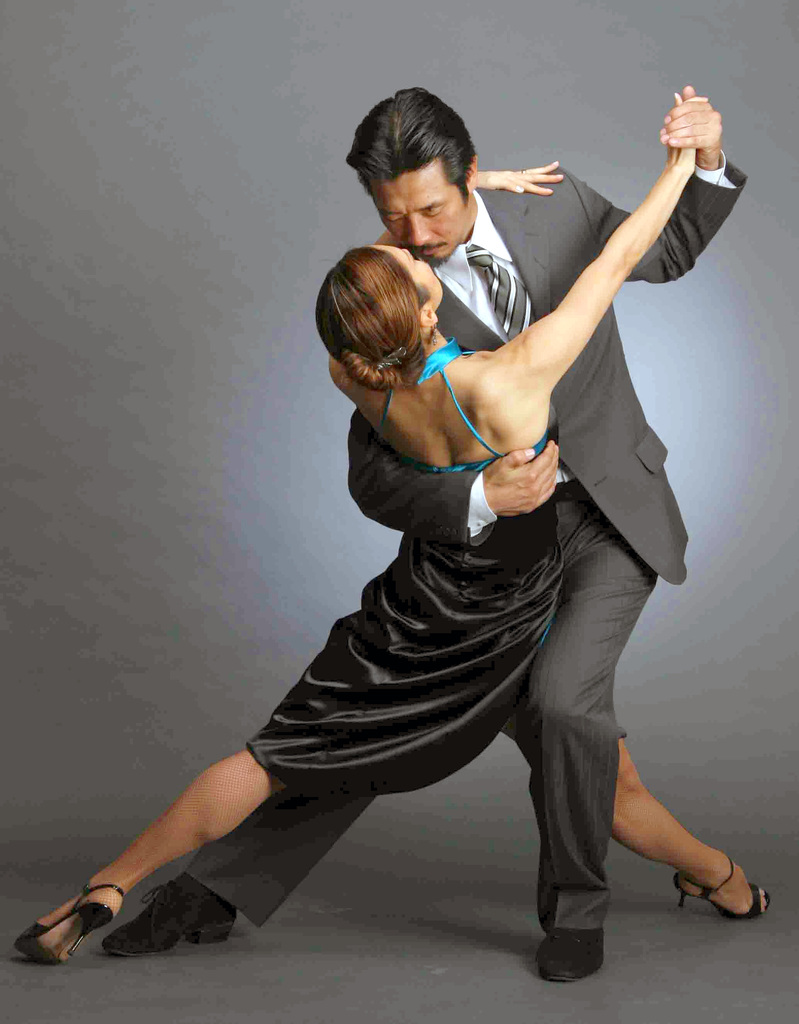Human_hand: (481, 440, 560, 518), (656, 84, 723, 170)
